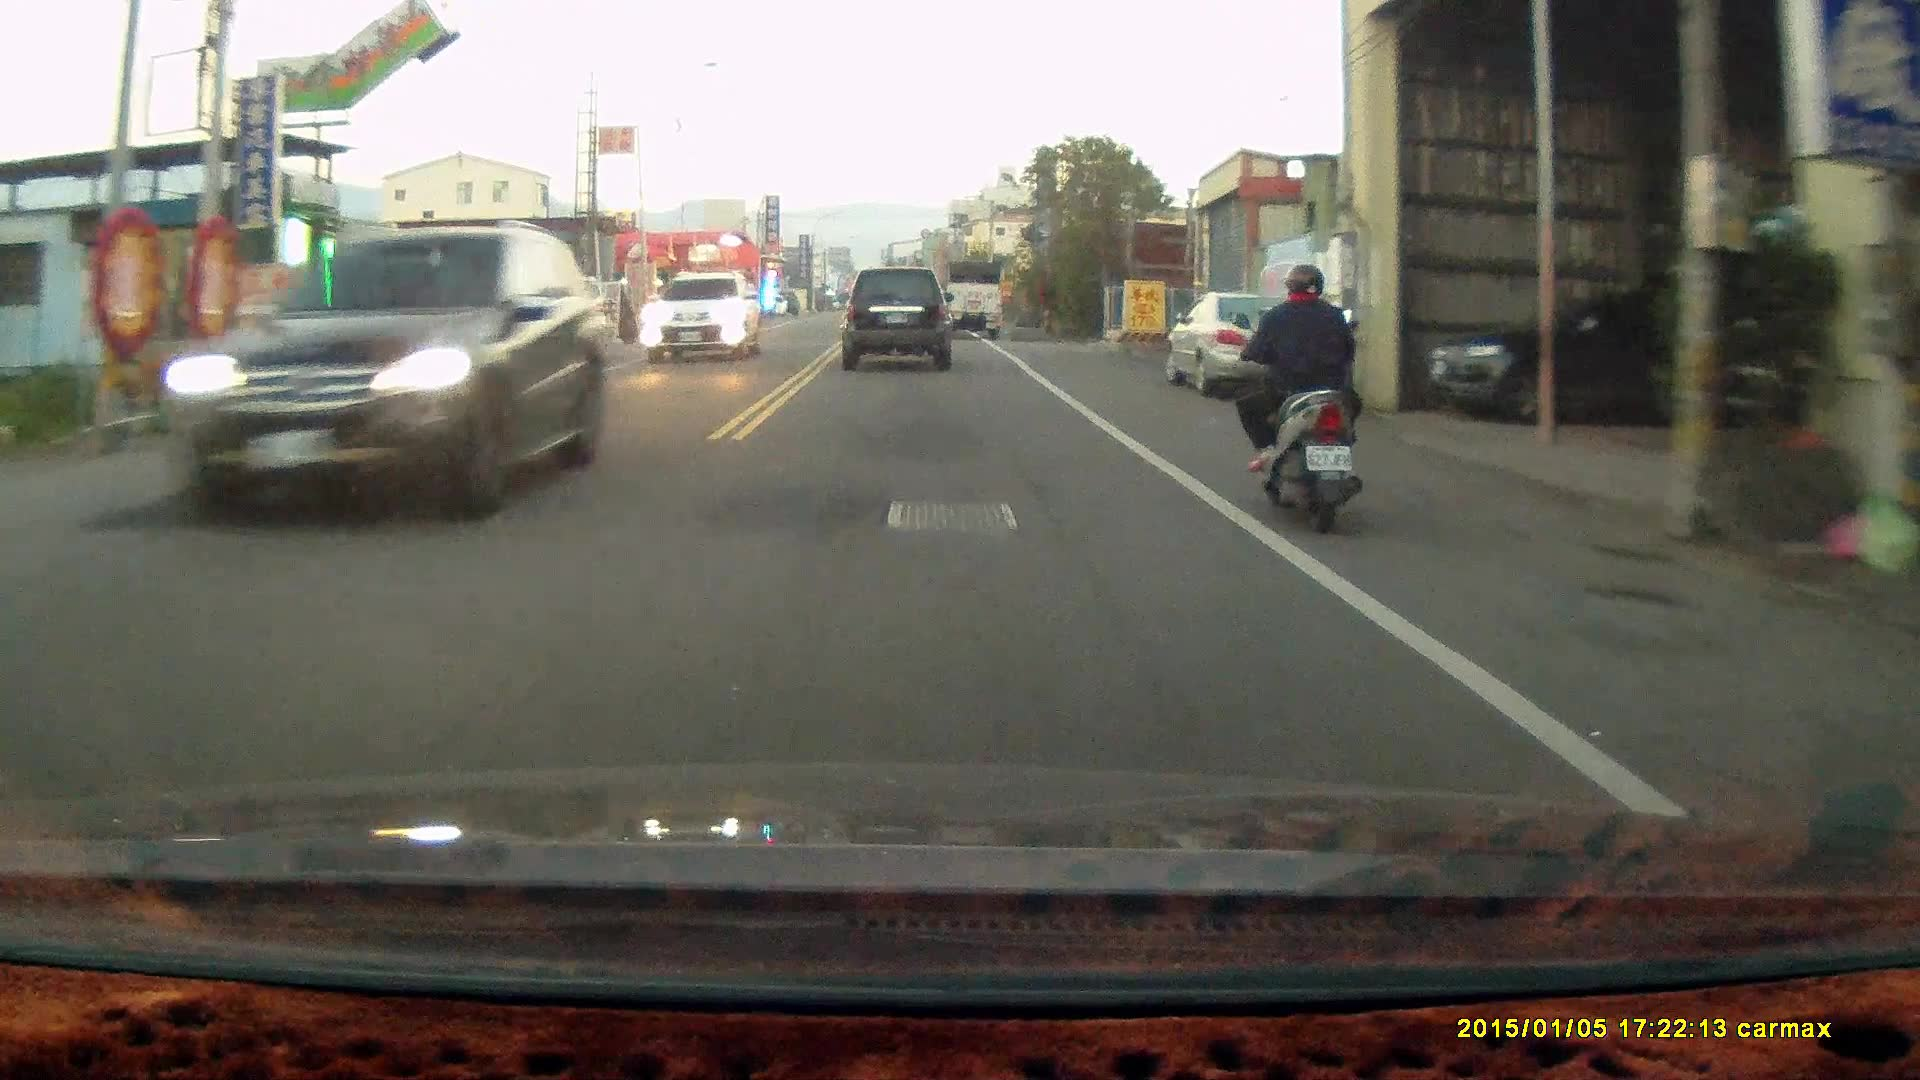rider: (1222, 258, 1362, 533)
vehicle: (154, 217, 625, 538), (1428, 295, 1727, 424), (1165, 285, 1334, 398), (640, 274, 766, 368), (841, 268, 956, 371), (935, 259, 1005, 338)
